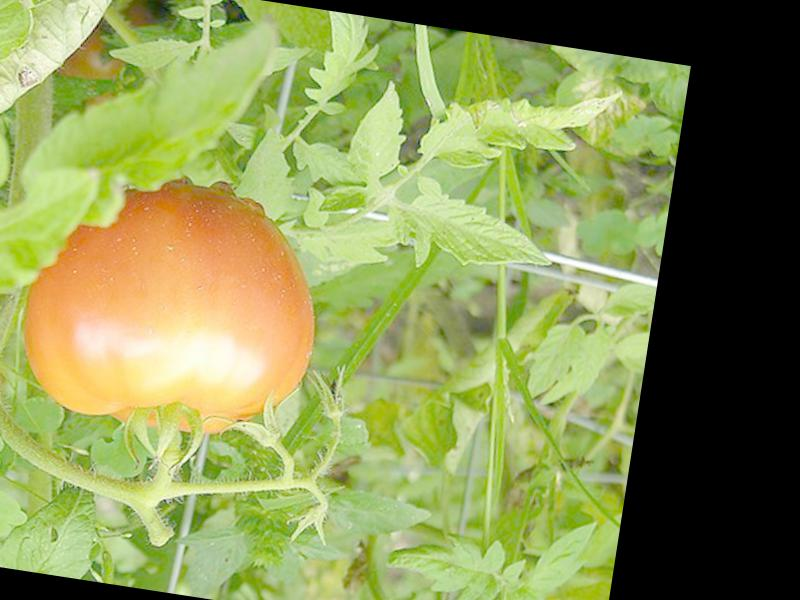Tomato: (12, 166, 330, 450)
